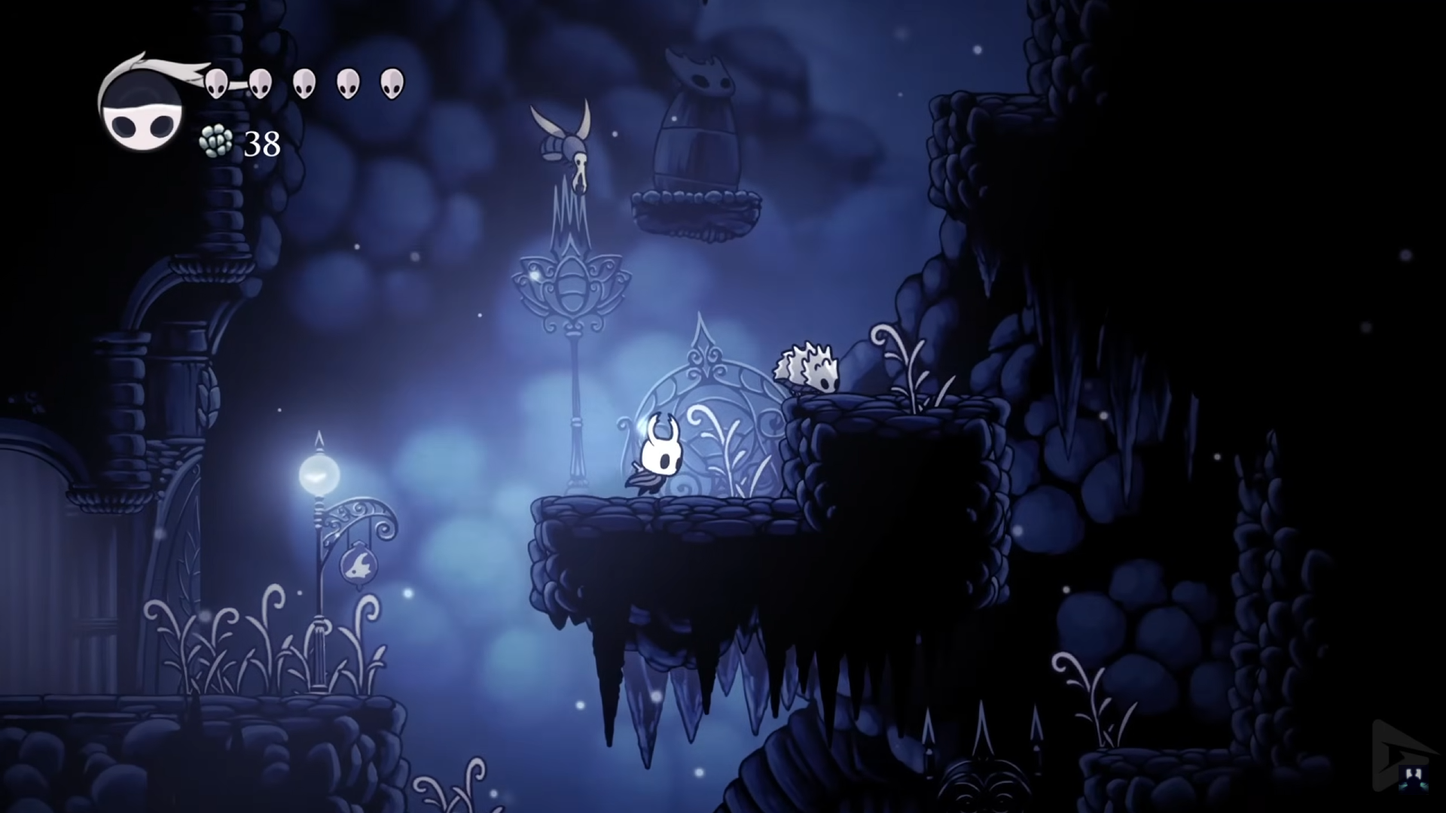HK: (627, 409, 689, 502)
